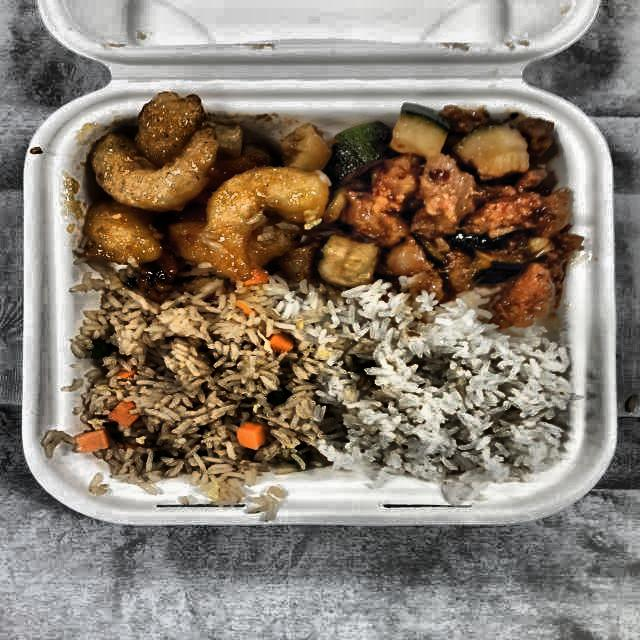Food: (314, 102, 584, 309), (70, 88, 328, 290), (70, 283, 323, 481), (326, 298, 566, 482)
